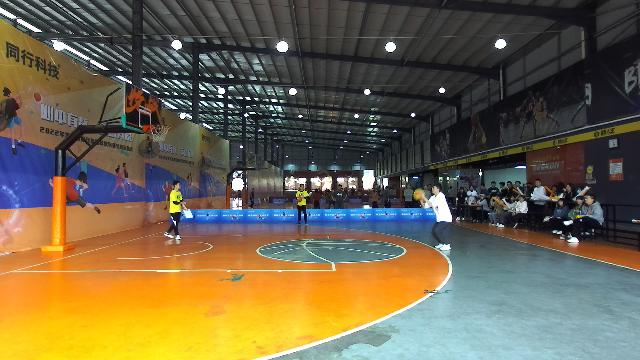ball: (413, 188, 422, 198), (296, 196, 302, 202)
basket: (150, 124, 170, 142)
